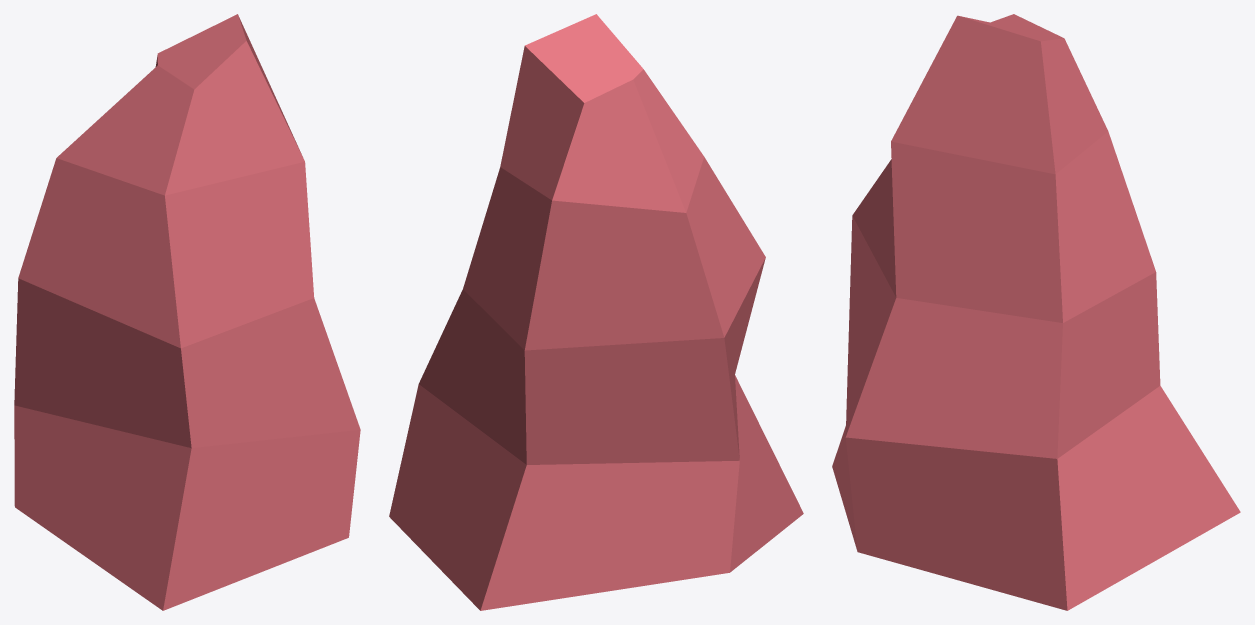
The model's file is Rock2-col.glb.
The picture shows the model from 3 angles, left to right: view 1: azimuth 30°, elevation 25°; view 2: azimuth 150°, elevation 25°; view 3: azimuth 270°, elevation 25°; orthographic projection. The views are drawn at different scales.
Visible parts, largest first — view 1: Rock2-col; view 2: Rock2-col; view 3: Rock2-col.
Boxes of the visible parts, <box> form: Rock2-col: <box>14,14,360,610</box>; Rock2-col: <box>389,14,803,610</box>; Rock2-col: <box>832,14,1240,610</box>.
Size of the model in its own units: 2.56 by 3.59 by 2.54.
